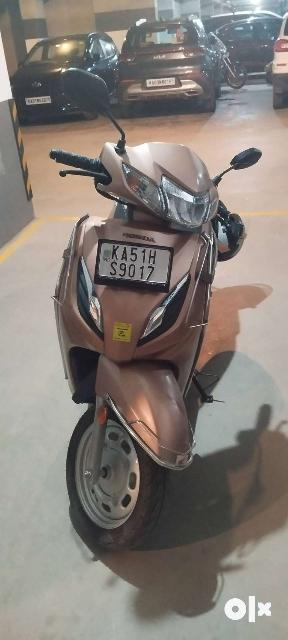Indian_Number_Plate: (95, 241, 174, 288)
